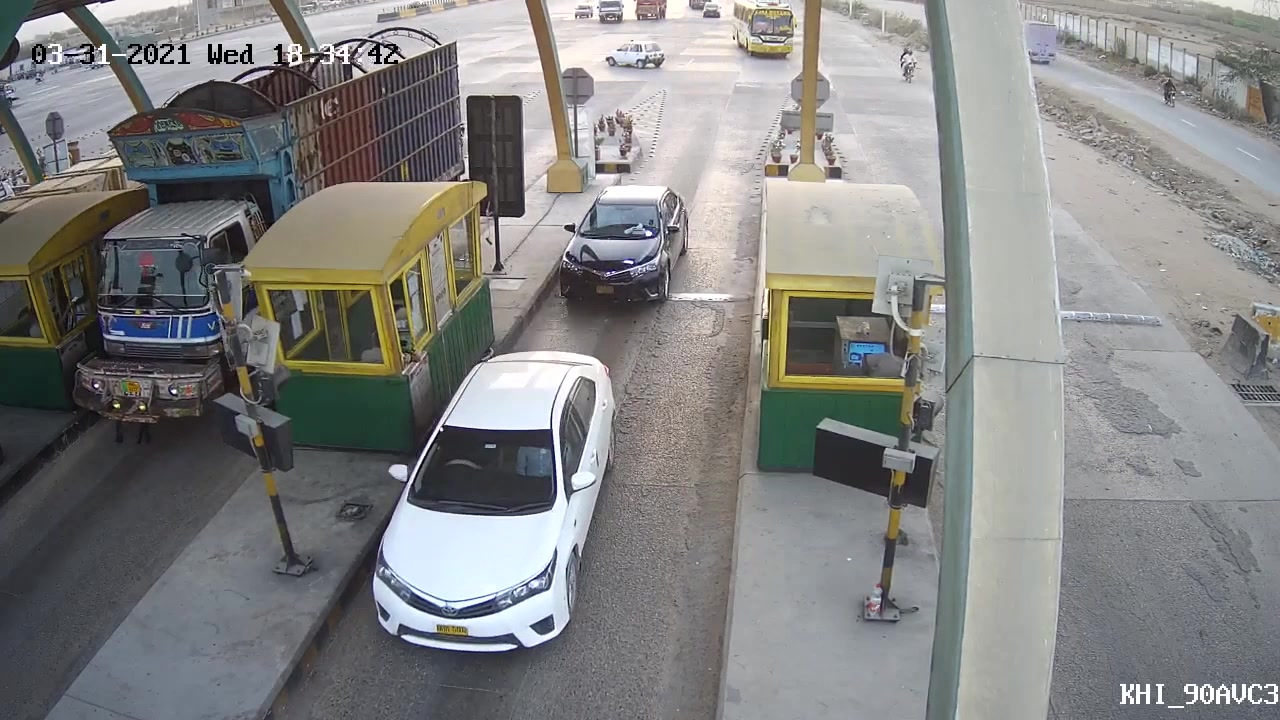F1: (366, 345, 625, 657), (556, 182, 695, 309)
